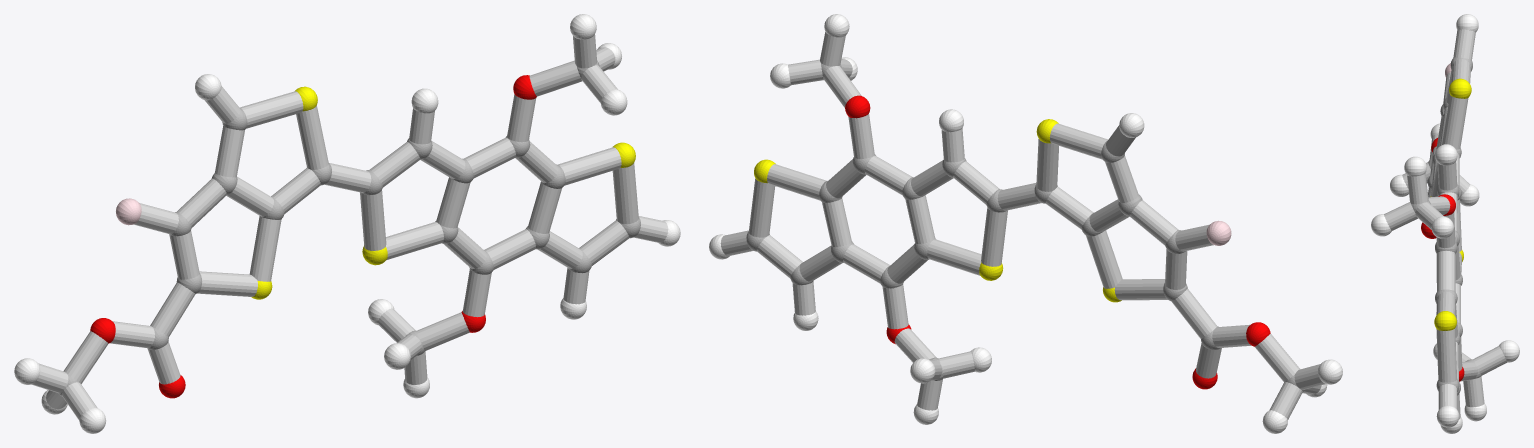
The model's file is Dimethoxy_Benzodithiophene_Phi_5_Theta_10_Methylcarbonyl_3_Fluoro_Thienothiophene.glb.
3 views of the same model, side by side, from view 1: azimuth 30°, elevation 25°; view 2: azimuth 150°, elevation 25°; view 3: azimuth 270°, elevation 25° (orthographic). The views are drawn at different scales.
Parts seen in each view (by area): view 1: grp15205, grp8689, grp1, grp13395, grp7241; view 2: grp15205, grp8689, grp1, grp13395, grp7241; view 3: grp15205, grp8689, grp1, grp7241, grp13395.
Part boxes in pixels (x1=…): grp15205: x1=32, y1=34, x2=668, y2=420; grp8689: x1=14, y1=14, x2=680, y2=433; grp1: x1=58, y1=60, x2=640, y2=396; grp13395: x1=90, y1=75, x2=536, y2=398; grp7241: x1=251, y1=86, x2=635, y2=299; grp15205: x1=720, y1=32, x2=1325, y2=419; grp8689: x1=709, y1=14, x2=1342, y2=433; grp1: x1=746, y1=63, x2=1305, y2=391; grp13395: x1=845, y1=95, x2=1270, y2=389; grp7241: x1=754, y1=119, x2=1121, y2=302; grp15205: x1=1384, y1=29, x2=1507, y2=419; grp8689: x1=1371, y1=14, x2=1519, y2=433; grp1: x1=1411, y1=57, x2=1481, y2=395; grp7241: x1=1430, y1=78, x2=1471, y2=330; grp13395: x1=1421, y1=138, x2=1464, y2=381.
Size of the model in its own units: 17.18 by 9.3 by 3.95.
